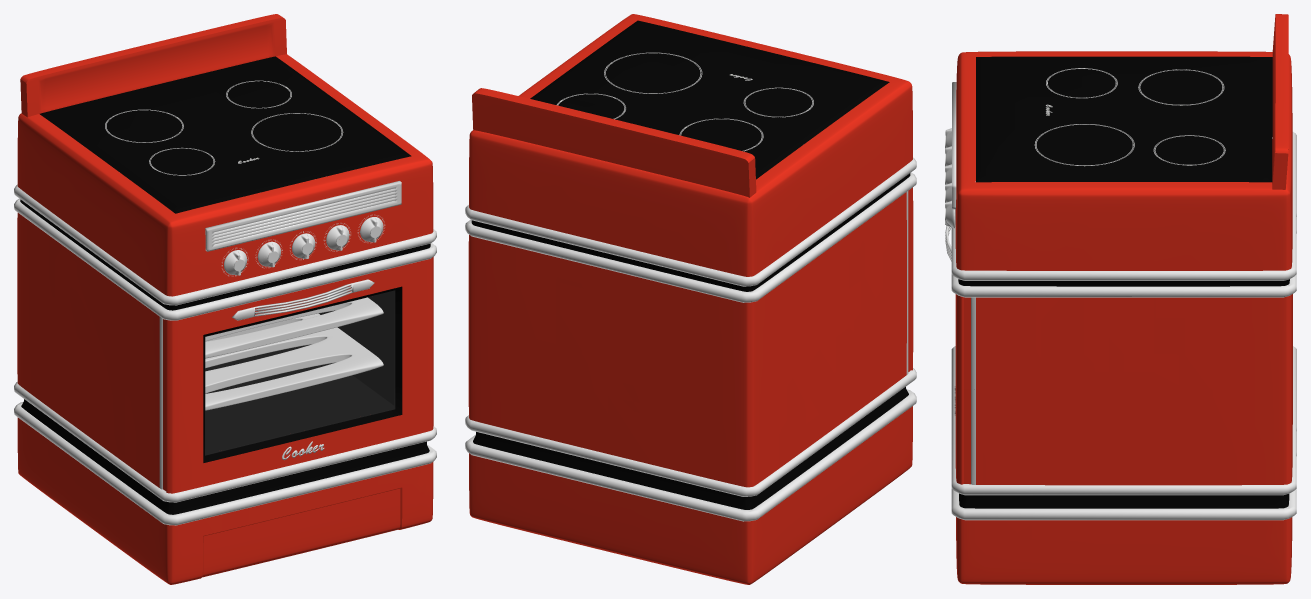
The model's file is oven.glb.
The picture shows the model from 3 angles, left to right: view 1: azimuth 30°, elevation 25°; view 2: azimuth 150°, elevation 25°; view 3: azimuth 270°, elevation 25°; orthographic projection. The views are drawn at different scales.
Visible parts, largest first — view 1: Retro Oven, Retro Oven_Metal_0.003, Retro Oven_Metal_0.002, Retro Oven_Metal_0.001; view 2: Retro Oven, Retro Oven_Metal_0.003; view 3: Retro Oven, Retro Oven_Metal_0.003.
Boxes of the visible parts, x1=… form: Retro Oven: x1=17, y1=14, x2=433, y2=584; Retro Oven_Metal_0.003: x1=14, y1=184, x2=436, y2=525; Retro Oven_Metal_0.002: x1=224, y1=242, x2=280, y2=275; Retro Oven_Metal_0.001: x1=233, y1=217, x2=383, y2=273; Retro Oven: x1=468, y1=14, x2=913, y2=584; Retro Oven_Metal_0.003: x1=465, y1=157, x2=916, y2=521; Retro Oven: x1=945, y1=14, x2=1292, y2=584; Retro Oven_Metal_0.003: x1=945, y1=132, x2=1296, y2=520.
Size of the model in its own units: 2.05 by 2.86 by 2.08.
8 materials, 2 textured.
